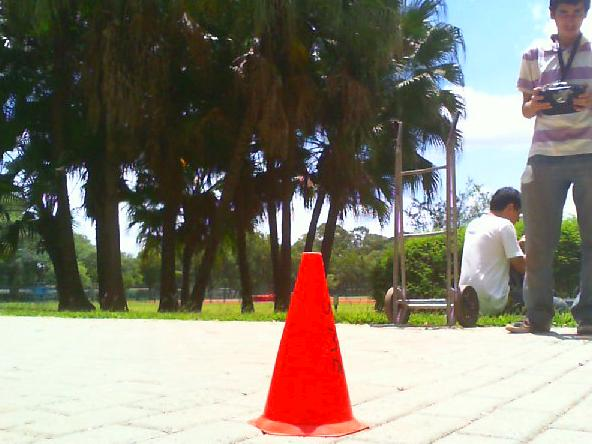0 cone: (246, 252, 369, 436)
